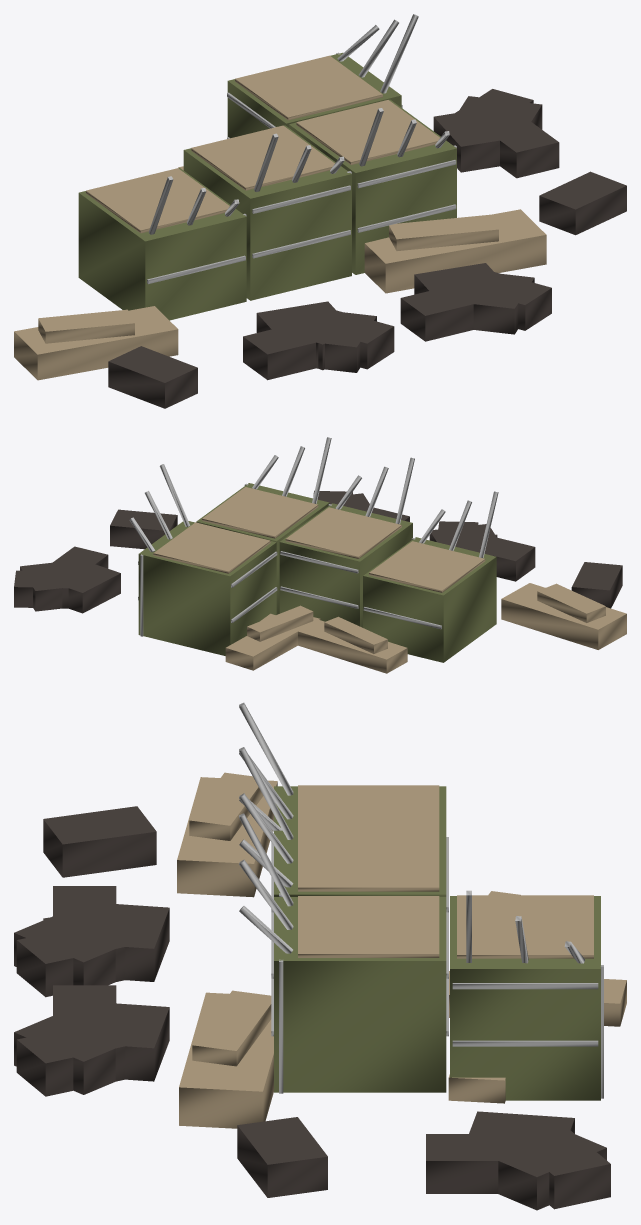
Rendered from SM_HescoRemateEspejo_v2_Escalonado_e2_MuyDanado_LOD0.fbx.
3 views of the same model, one above another, from view 1: azimuth 30°, elevation 25°; view 2: azimuth 150°, elevation 25°; view 3: azimuth 270°, elevation 25° (orthographic). The views are drawn at different scales.
Parts seen in each view (by area): view 1: SM_hesco_piezas_v30_LOD0; view 2: SM_hesco_piezas_v30_LOD0; view 3: SM_hesco_piezas_v30_LOD0.
Part boxes in pixels (x1,y1,x2,y2): SM_hesco_piezas_v30_LOD0: [14, 14, 626, 408]; SM_hesco_piezas_v30_LOD0: [14, 437, 626, 673]; SM_hesco_piezas_v30_LOD0: [14, 702, 626, 1210].
Size of the model in its own units: 6.71 by 1.74 by 4.34.
